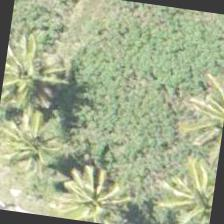Kelapa_Sawit: (0, 91, 88, 193), (43, 144, 143, 223), (0, 30, 74, 129), (156, 147, 220, 223)
